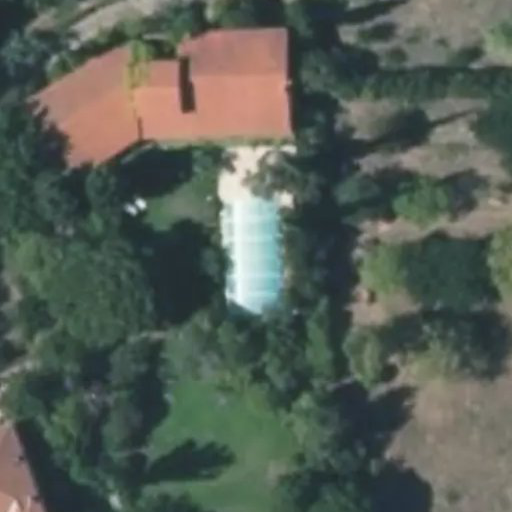pool: (225, 201, 288, 313)
